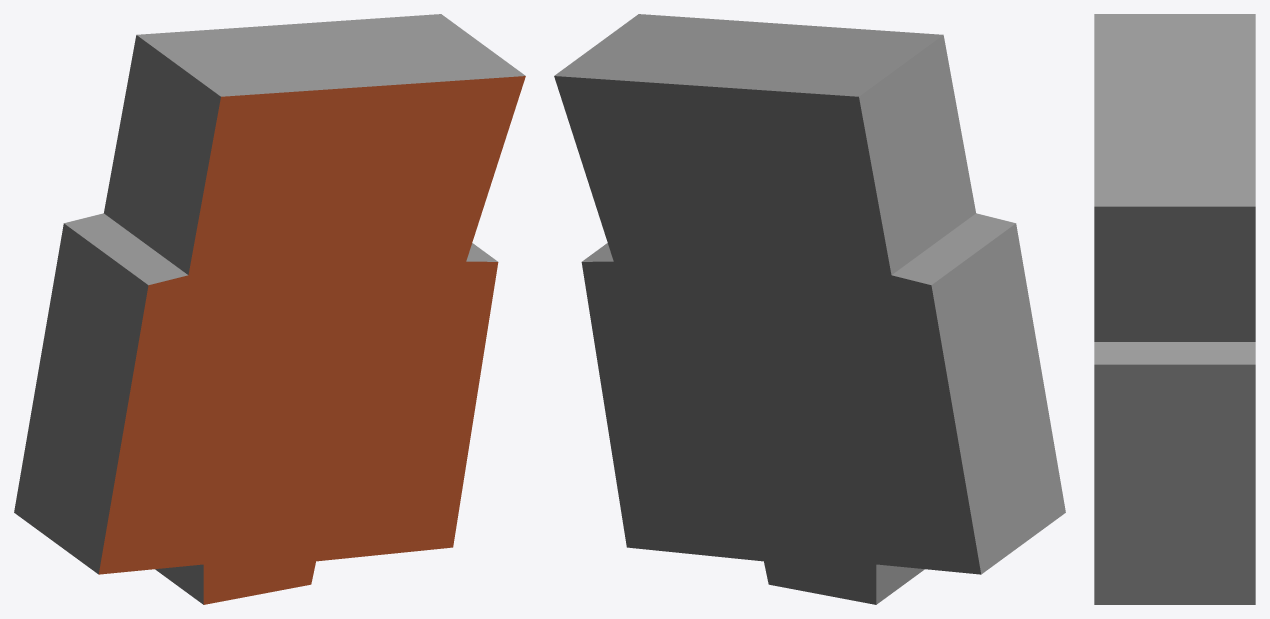
The model's file is construction_0388_assumed_A_Casa_h6m.obj.
The picture shows the model from 3 angles, left to right: view 1: azimuth 30°, elevation 25°; view 2: azimuth 150°, elevation 25°; view 3: azimuth 270°, elevation 25°; orthographic projection. The views are drawn at different scales.
Parts seen in each view (by area): view 1: construction_0388_assumed_A_Casa; view 2: construction_0388_assumed_A_Casa; view 3: construction_0388_assumed_A_Casa.
Boxes of the visible parts, x1=… form: construction_0388_assumed_A_Casa: x1=14, y1=14, x2=525, y2=604; construction_0388_assumed_A_Casa: x1=554, y1=14, x2=1065, y2=604; construction_0388_assumed_A_Casa: x1=1094, y1=14, x2=1255, y2=604.
Bounding box in the file's own units: 17.48 × 19.93 × 6.
